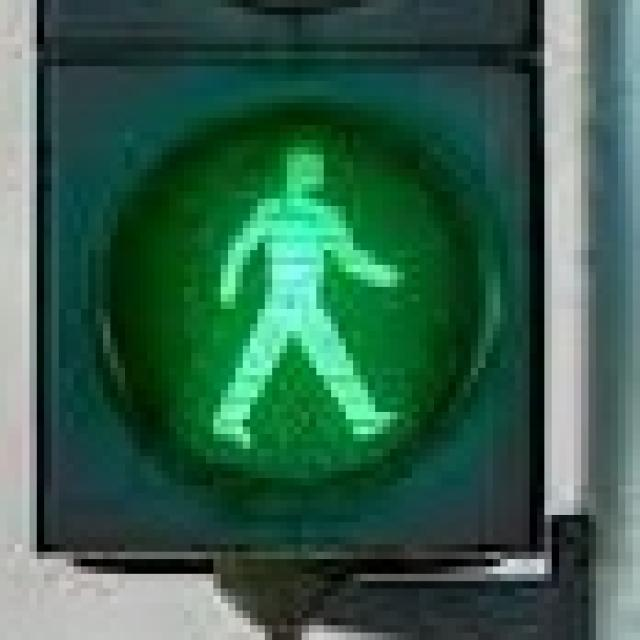geen-crossing: (176, 118, 404, 456)
